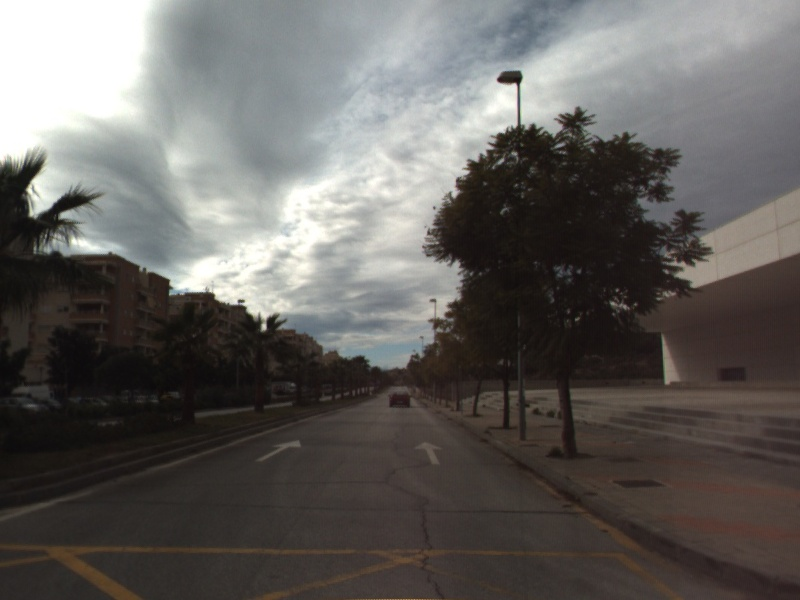STRAIGHT: (253, 438, 303, 464), (412, 440, 445, 467)
